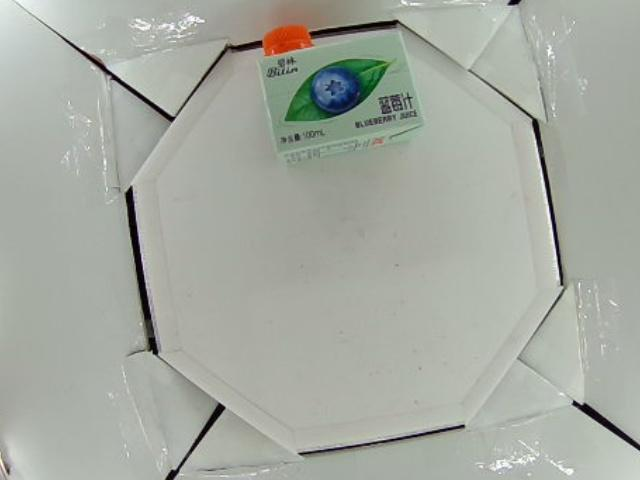Bottle: (255, 13, 427, 166)
